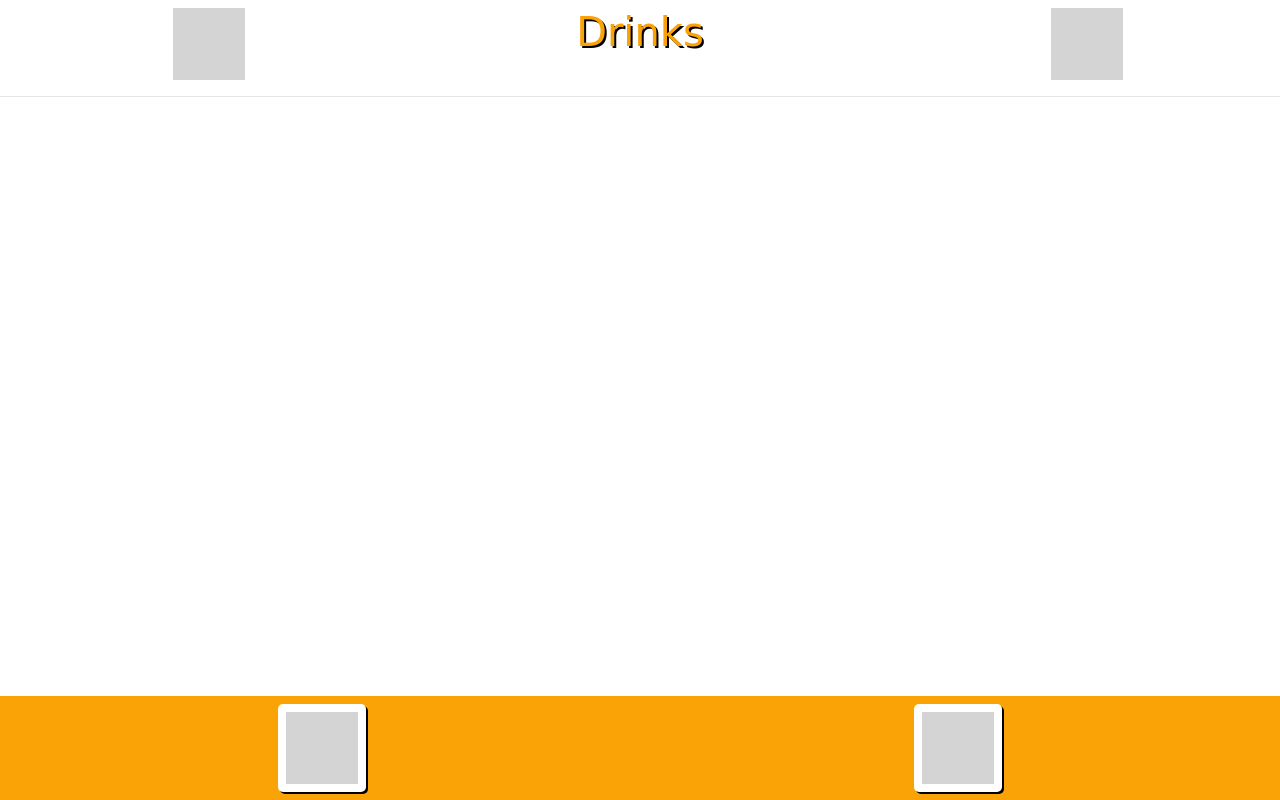
Test case: Drinks page SearchBar tests › renders drinks search bar elements correctly
Click the button with test id "search-top-btn".
click(1079, 44)  # box [1051,8,1107,80]
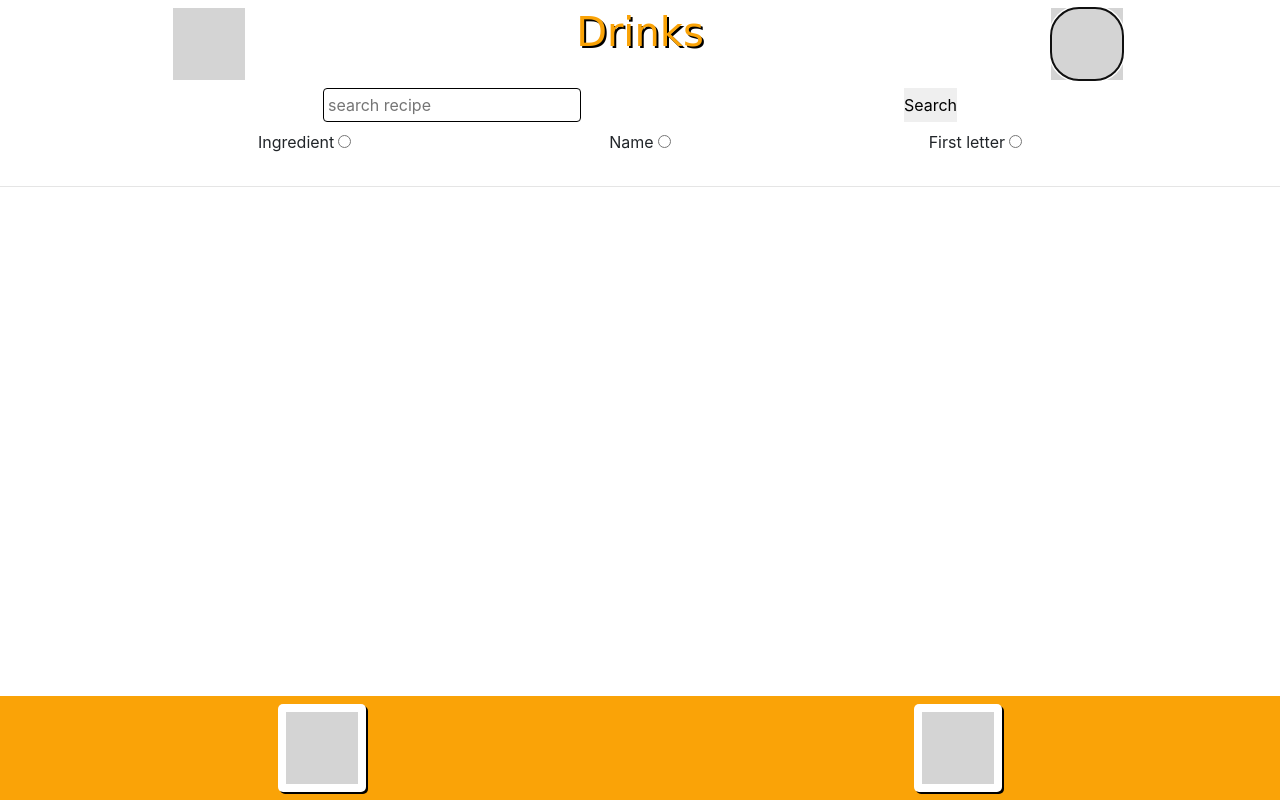
Check: the radio button with test id "ingredient-search-radio" is shown, box [338,135,351,148]
Check: the radio button with test id "name-search-radio" is shown, box [658,135,671,148]
Check: the radio button with test id "first-letter-search-radio" is shown, box [1009,135,1022,148]
